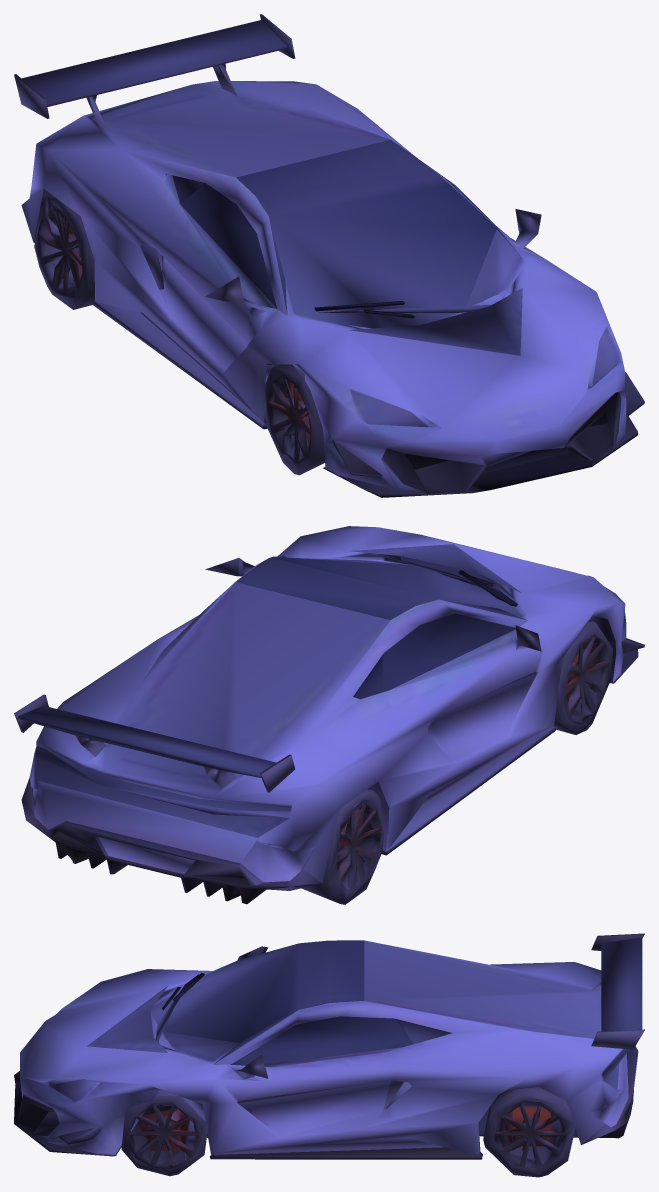
The model's file is model.progressive.glb.
3 views of the same model, one above another, from view 1: azimuth 30°, elevation 25°; view 2: azimuth 150°, elevation 25°; view 3: azimuth 270°, elevation 25° (orthographic). The views are drawn at different scales.
Visible parts, largest first — view 1: material; view 2: material; view 3: material.
Part boxes in pixels (x1=…): material: x1=14, y1=14, x2=644, y2=497; material: x1=14, y1=526, x2=644, y2=904; material: x1=14, y1=933, x2=644, y2=1177.
Bounding box in the file's own units: 0.9315 × 0.494 × 1.89.
Materials: 1 (1 with a texture image).
